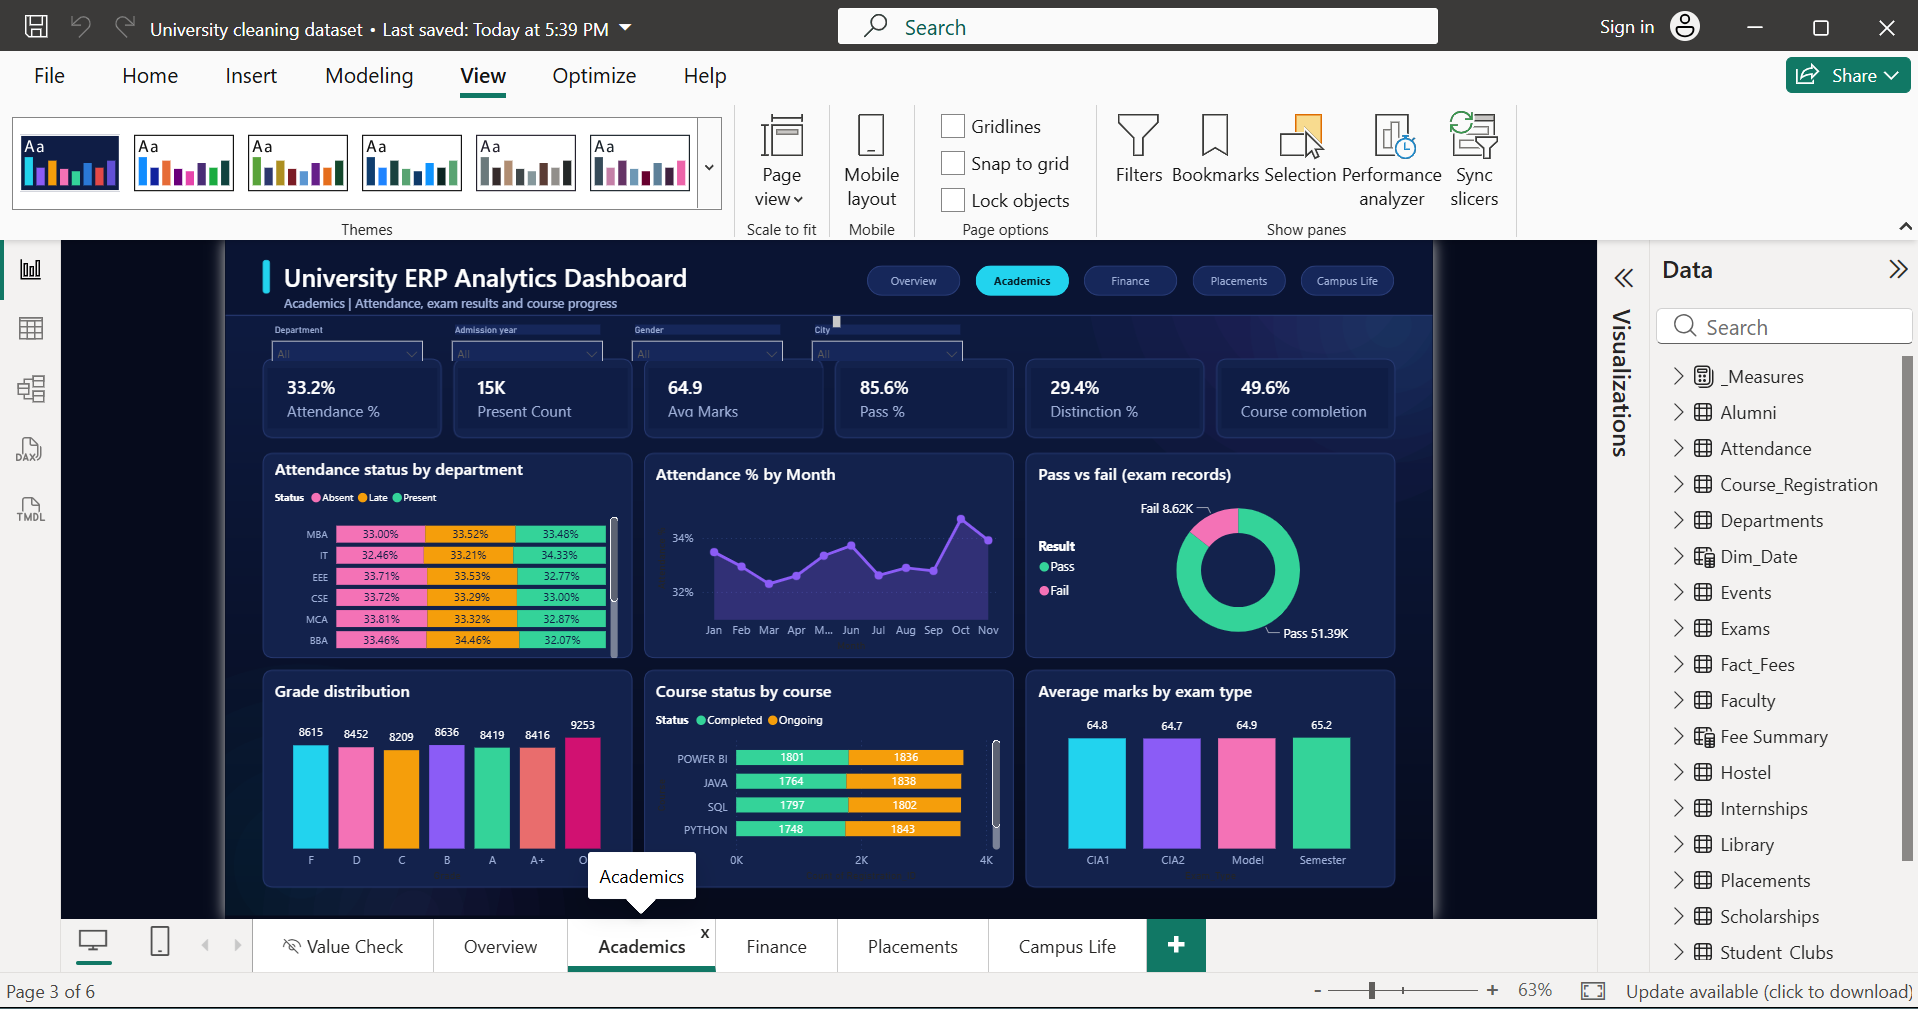

This screenshot's page, from the dashboard's own definition file:
{"tool":"powerbi","page":{"name":"Academics","canvas":[1280,720],"ordinal":2},"visuals":[{"type":"textbox","title":"University ERP Analytics Dashboard","box":[57,20,600,40],"z":0},{"type":"slicer","fields":{"Values":["Students.Admission_Year"]},"box":[231,84,180,44],"z":1000},{"type":"slicer","fields":{"Values":["Students.Gender"]},"box":[421,84,180,44],"z":2000},{"type":"slicer","fields":{"Values":["Students.City"]},"box":[612,84,180,44],"z":3000},{"type":"areaChart","fields":{"Category":["Dim_Date.Month"],"Y":["_Measures.Attendance %"]},"box":[452,236,375,205],"z":4000},{"type":"donutChart","title":"Pass vs fail (exam records)","fields":{"Category":["Exams.Result"],"Y":["CountNonNull(Exams.Exam_ID)"]},"box":[857,236,375.4,205.2],"z":5000},{"type":"clusteredColumnChart","title":"Grade distribution","fields":{"Category":["Exams.Grade"],"Y":["CountNonNull(Exams.Exam_ID)"]},"box":[48,466,375.4,218],"z":6000},{"type":"barChart","title":"Course status by course","fields":{"Category":["Course_Registration.Course"],"Y":["CountNonNull(Course_Registration.Registration_ID)"],"Series":["Course_Registration.Status"]},"box":[452,466,375,218],"z":7000},{"type":"clusteredColumnChart","title":"Average marks by exam type","fields":{"Category":["Exams.Exam_Type"],"Y":["_Measures.Avg Marks"]},"box":[857,466,375,218],"z":8000},{"type":"textbox","title":"Academics | Attendance, exam results and course progress","box":[57,58,600,40],"z":9000},{"type":"pageNavigator","box":[680,27,560,32],"z":10000},{"type":"slicer","fields":{"Values":["Departments.Department_Name"]},"box":[40,84,180,44],"z":11000},{"type":"cardVisual","fields":{"Data":["_Measures.Attendance %"]},"box":[39.8,130.4,190.9,74.8],"z":12000},{"type":"cardVisual","fields":{"Data":["_Measures.Present Count"]},"box":[241.8,130.4,190.9,74.8],"z":13000},{"type":"cardVisual","fields":{"Data":["_Measures.Avg Marks"]},"box":[443.8,130.4,195.6,74.8],"z":14000},{"type":"cardVisual","fields":{"Data":["_Measures.Pass %"]},"box":[647.4,130.4,187.7,74.8],"z":15000},{"type":"cardVisual","fields":{"Data":["_Measures.Distinction %"]},"box":[849.4,130.4,189.3,74.8],"z":16000},{"type":"cardVisual","fields":{"Data":["_Measures.Course Completion %"]},"box":[1051.4,130.4,187.7,74.8],"z":17000},{"type":"hundredPercentStackedBarChart","title":"Attendance status by department","fields":{"Category":["Departments.Department_Name"],"Y":["_Measures.Attendance Records"],"Series":["Attendance.Status"]},"box":[47.7,230.6,373.8,217.9],"z":18000}]}

Visuals, with their boxes on the page's 1280x720 design canvas (x1, y1, x2, y2). These are canvas units, not pixel positions in the 1918x1009 screenshot, which may show the page scaled, cropped or inside an application window:
"University ERP Analytics Dashboard" textbox: crop(57, 20, 657, 60)
slicer - Students.Admission_Year: crop(231, 84, 411, 128)
slicer - Students.Gender: crop(421, 84, 601, 128)
slicer - Students.City: crop(612, 84, 792, 128)
areaChart - Dim_Date.Month x _Measures.Attendance %: crop(452, 236, 827, 441)
"Pass vs fail (exam records)" donutChart: crop(857, 236, 1232, 441)
"Grade distribution" clusteredColumnChart: crop(48, 466, 423, 684)
"Course status by course" barChart: crop(452, 466, 827, 684)
"Average marks by exam type" clusteredColumnChart: crop(857, 466, 1232, 684)
"Academics | Attendance, exam results and course progress" textbox: crop(57, 58, 657, 98)
pageNavigator: crop(680, 27, 1240, 59)
slicer - Departments.Department_Name: crop(40, 84, 220, 128)
cardVisual - _Measures.Attendance %: crop(40, 130, 231, 205)
cardVisual - _Measures.Present Count: crop(242, 130, 433, 205)
cardVisual - _Measures.Avg Marks: crop(444, 130, 639, 205)
cardVisual - _Measures.Pass %: crop(647, 130, 835, 205)
cardVisual - _Measures.Distinction %: crop(849, 130, 1039, 205)
cardVisual - _Measures.Course Completion %: crop(1051, 130, 1239, 205)
"Attendance status by department" hundredPercentStackedBarChart: crop(48, 231, 422, 448)
